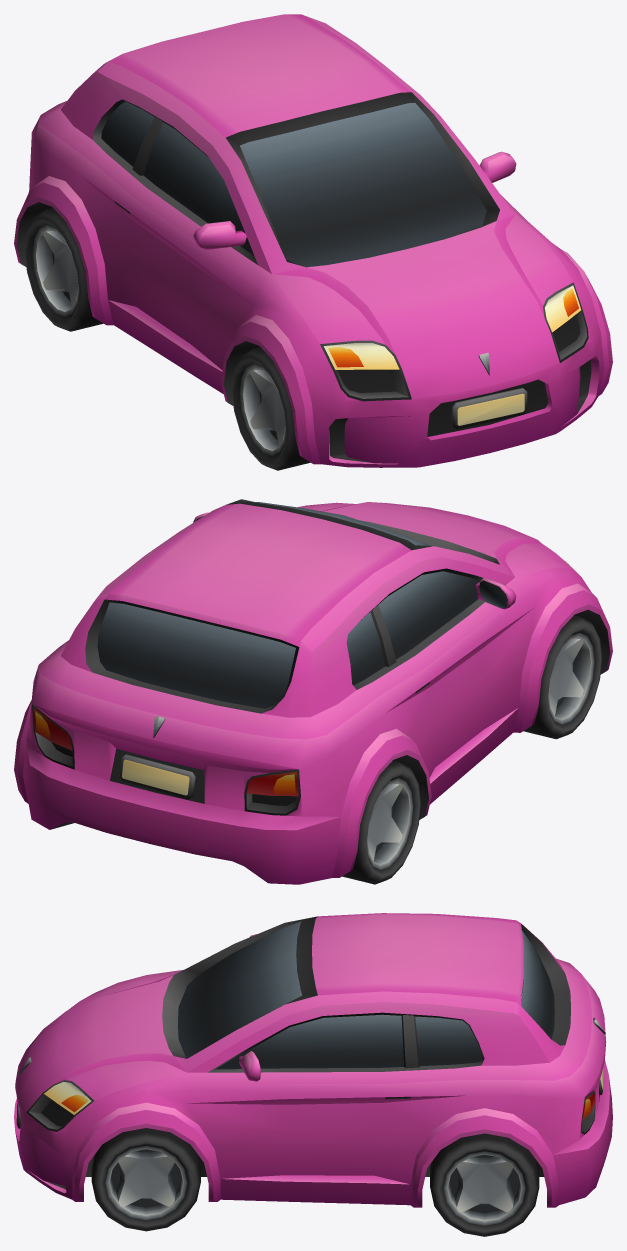
The model's file is Car_7D.fbx.
3 views of the same model, one above another, from view 1: azimuth 30°, elevation 25°; view 2: azimuth 150°, elevation 25°; view 3: azimuth 270°, elevation 25° (orthographic). The views are drawn at different scales.
Parts seen in each view (by area): view 1: Car_7D, Wheel_7D_R.R, Wheel_7D_F.R; view 2: Car_7D, Wheel_7D_F.R, Wheel_7D_R.R; view 3: Car_7D, Wheel_7D_R.L, Wheel_7D_F.L.
Boxes of the visible parts, bbox=[...] form: Car_7D: bbox=[14, 14, 612, 467]; Wheel_7D_R.R: bbox=[24, 207, 103, 331]; Wheel_7D_F.R: bbox=[232, 346, 310, 470]; Car_7D: bbox=[14, 499, 612, 884]; Wheel_7D_F.R: bbox=[523, 615, 602, 739]; Wheel_7D_R.R: bbox=[342, 760, 420, 884]; Car_7D: bbox=[14, 913, 612, 1207]; Wheel_7D_R.L: bbox=[430, 1133, 539, 1236]; Wheel_7D_F.L: bbox=[91, 1128, 200, 1231].
Bounding box in the file's own units: 263 × 187 × 460.
